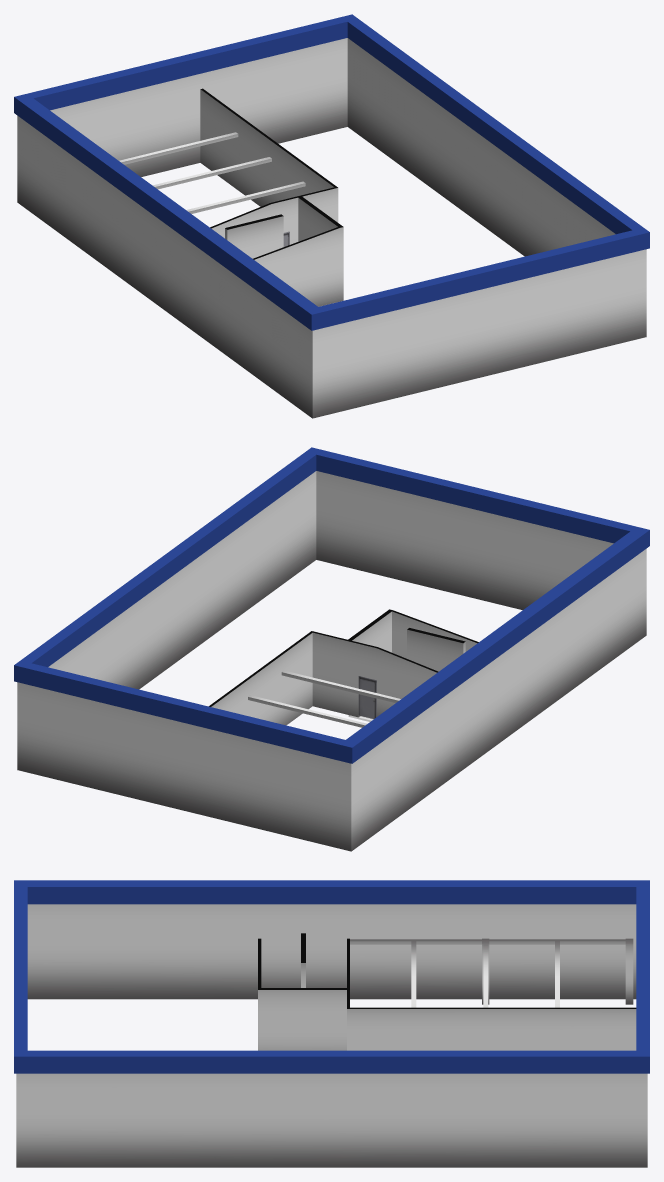
File: soulbrain_T3-3-4F.glb
3 renders of one model, top to bottom at view 1: azimuth 30°, elevation 25°; view 2: azimuth 150°, elevation 25°; view 3: azimuth 270°, elevation 25°, orthographic. The views are drawn at different scales.
Parts seen in each view (by area): view 1: Box117, Rectangle119, Rectangle120; view 2: Box117, Rectangle119, Rectangle120, Box118; view 3: Box117, Rectangle119, Rectangle120.
Part boxes in pixels (<box>): Box117: <box>14,14,649,418</box>; Rectangle119: <box>200,88,343,306</box>; Rectangle120: <box>119,132,305,213</box>; Box117: <box>14,447,649,851</box>; Rectangle119: <box>209,609,478,725</box>; Rectangle120: <box>248,670,400,727</box>; Box118: <box>358,676,376,718</box>; Box117: <box>14,880,649,1167</box>; Rectangle119: <box>258,933,636,1050</box>; Rectangle120: <box>350,938,633,1007</box>.
Bounding box in the file's own units: 16.83 × 5.41 × 25.65.
Materials: 6 (2 with a texture image).
